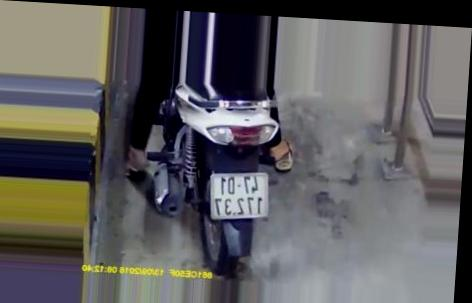License_Plate: (204, 165, 277, 226)
